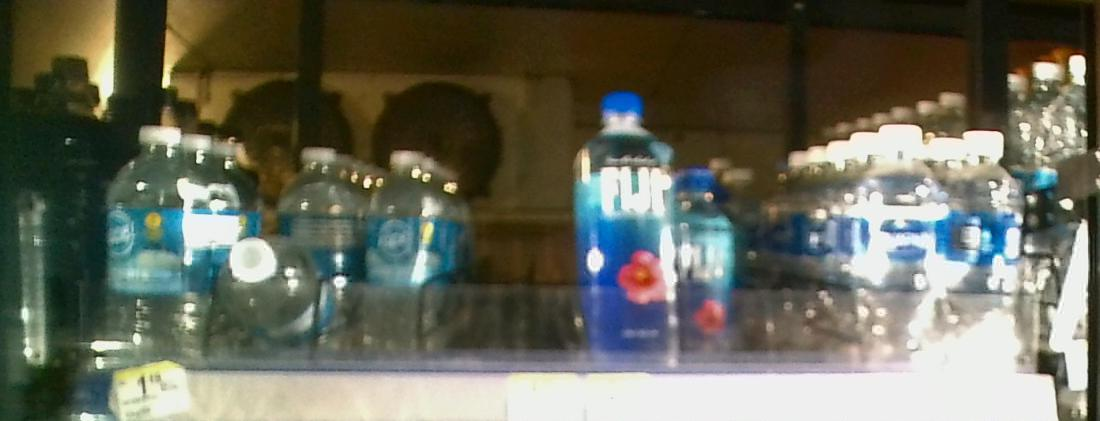bottle: (575, 90, 678, 381), (846, 124, 949, 355), (102, 112, 192, 356), (955, 126, 1029, 358), (214, 215, 312, 340), (682, 164, 741, 362), (369, 141, 422, 353)
